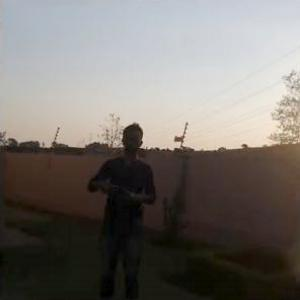follow: (80, 116, 164, 299)
